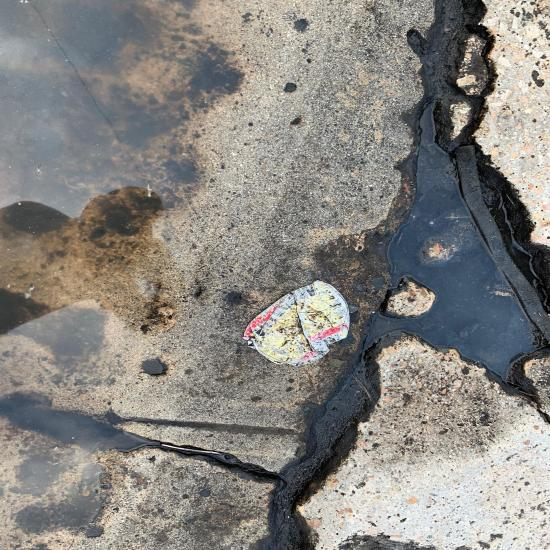Drink can: (63, 255, 227, 344), (254, 175, 391, 257)
Other carton: (0, 266, 61, 326)
Other plastic: (49, 195, 171, 272)
Plastic film: (0, 211, 65, 290)
